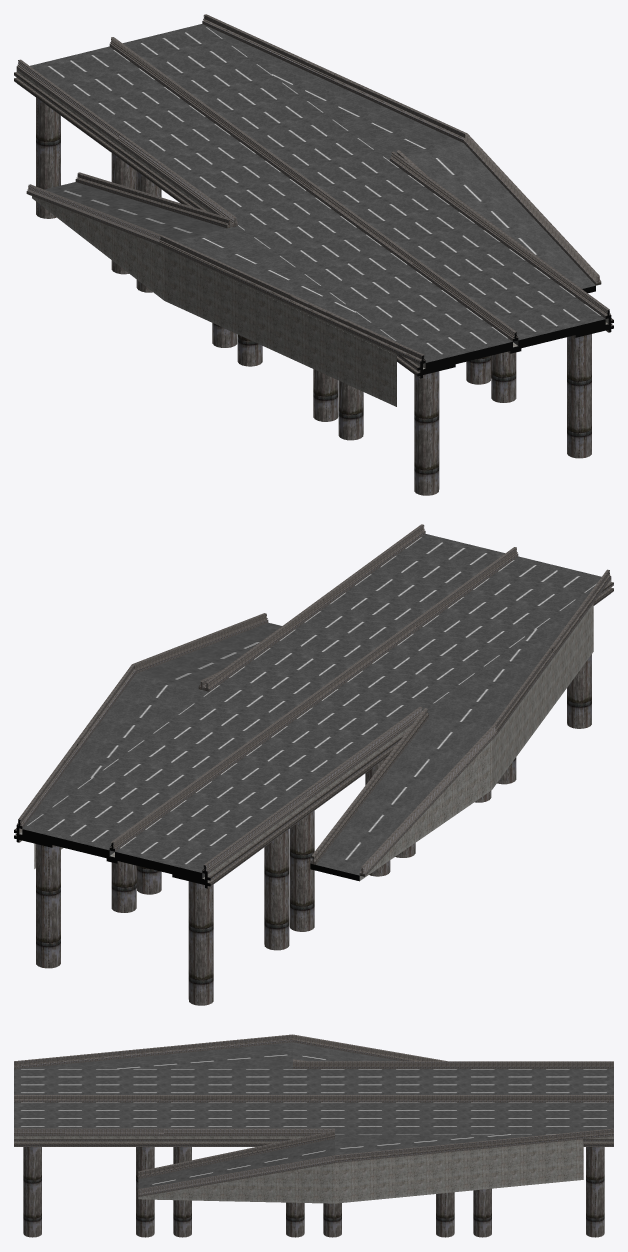
File: HighwayJunct2_1.fbx
The picture shows the model from 3 angles, top to bottom: view 1: azimuth 30°, elevation 25°; view 2: azimuth 150°, elevation 25°; view 3: azimuth 270°, elevation 25°; orthographic projection. The views are drawn at different scales.
Parts seen in each view (by area): view 1: materialE150, materialD150, materialA150, materialB150, materialC150; view 2: materialE150, materialD150, materialA150, materialB150, materialC150; view 3: materialE150, materialD150, materialB150, materialA150.
Part boxes in pixels (x1,y1,x2,y2): materialE150: (30,24,605,362); materialD150: (14,14,613,495); materialA150: (44,24,595,341); materialB150: (16,69,608,406); materialC150: (111,19,613,378); materialE150: (22,534,601,878); materialD150: (14,524,613,1005); materialA150: (22,586,594,875); materialB150: (19,579,611,882); materialC150: (14,573,609,888); materialE150: (14,1069,613,1134); materialD150: (14,1034,613,1237); materialB150: (14,1136,613,1203); materialA150: (16,1042,551,1189).
Bounding box in the file's own units: 99.2 × 41.6 × 205.
